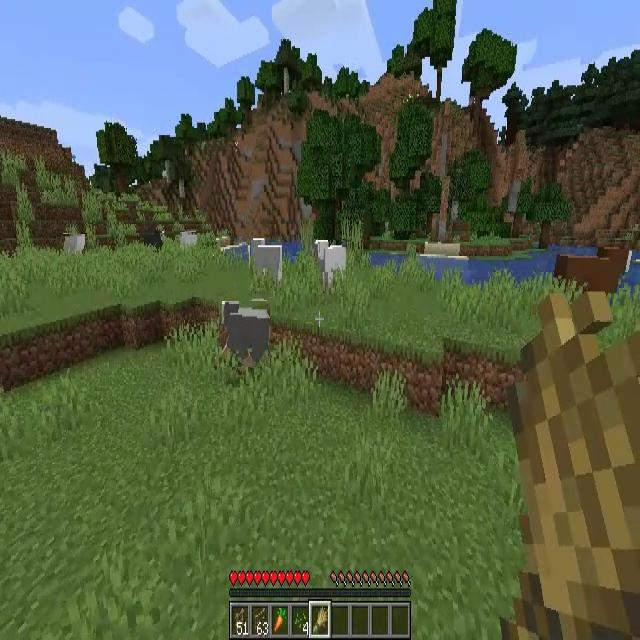sheep: (556, 244, 632, 294), (219, 301, 270, 367), (314, 239, 346, 293), (250, 238, 282, 291), (64, 234, 86, 258), (179, 232, 197, 256)
